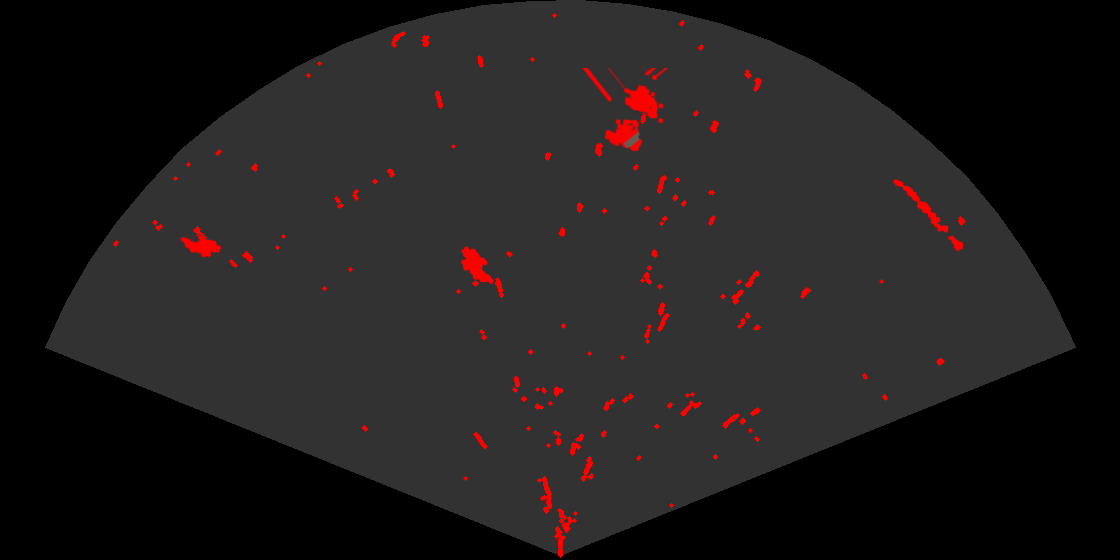AUV: (459, 245, 495, 286), (178, 234, 223, 259)
cage: (581, 68, 670, 153)
chain: (892, 178, 965, 253)
